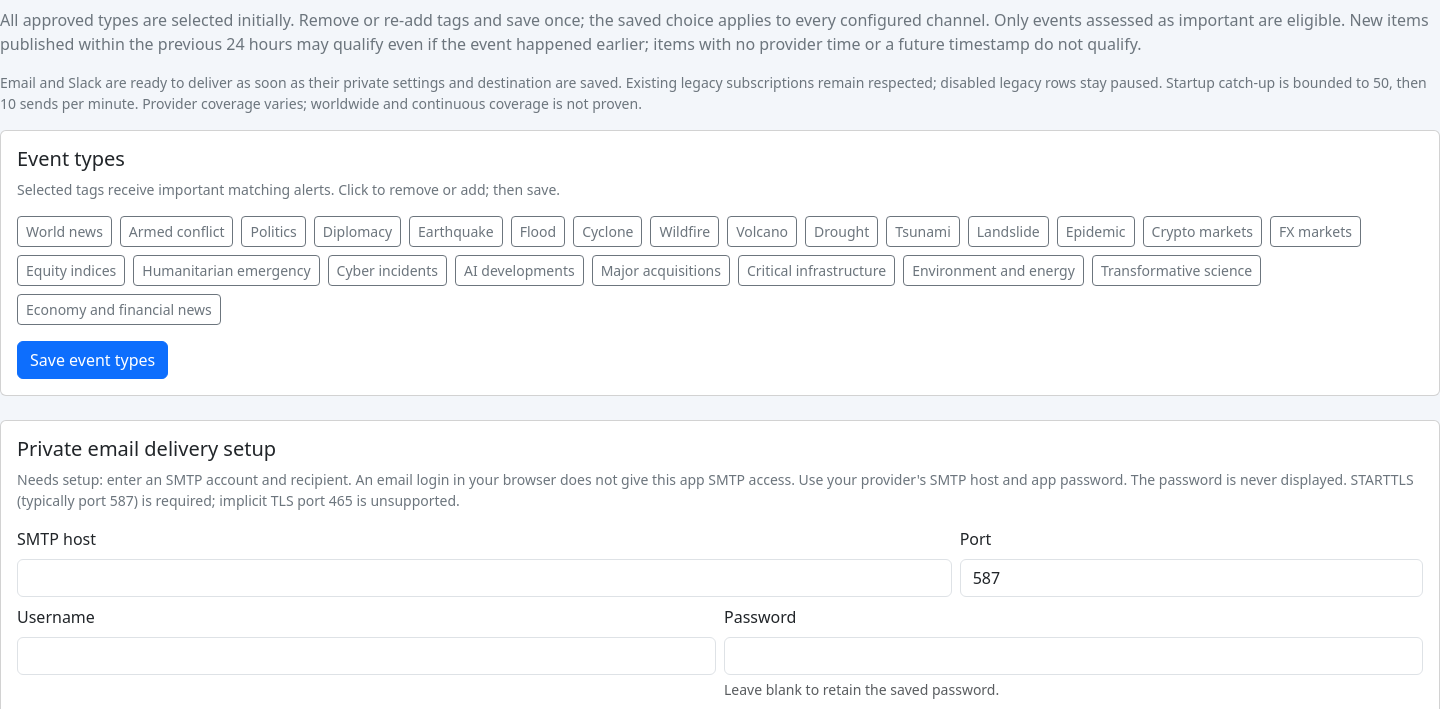
Test: Alert setup › saves private SMTP configuration with CSRF and explicitly tests a chosen recipient
This screenshot has width=1440, height=709.
Type "mail.example.org" into the field labelled "SMTP host" at (484, 578), box x1=17 y1=559 x2=952 y2=597
Type "sender" into the field labelled "Username" at (366, 656), box x1=17 y1=637 x2=716 y2=675
Type "private-secret" into the password field named "smtpPassword" at (1074, 656), box x1=724 y1=637 x2=1423 y2=675
(page scrolled)
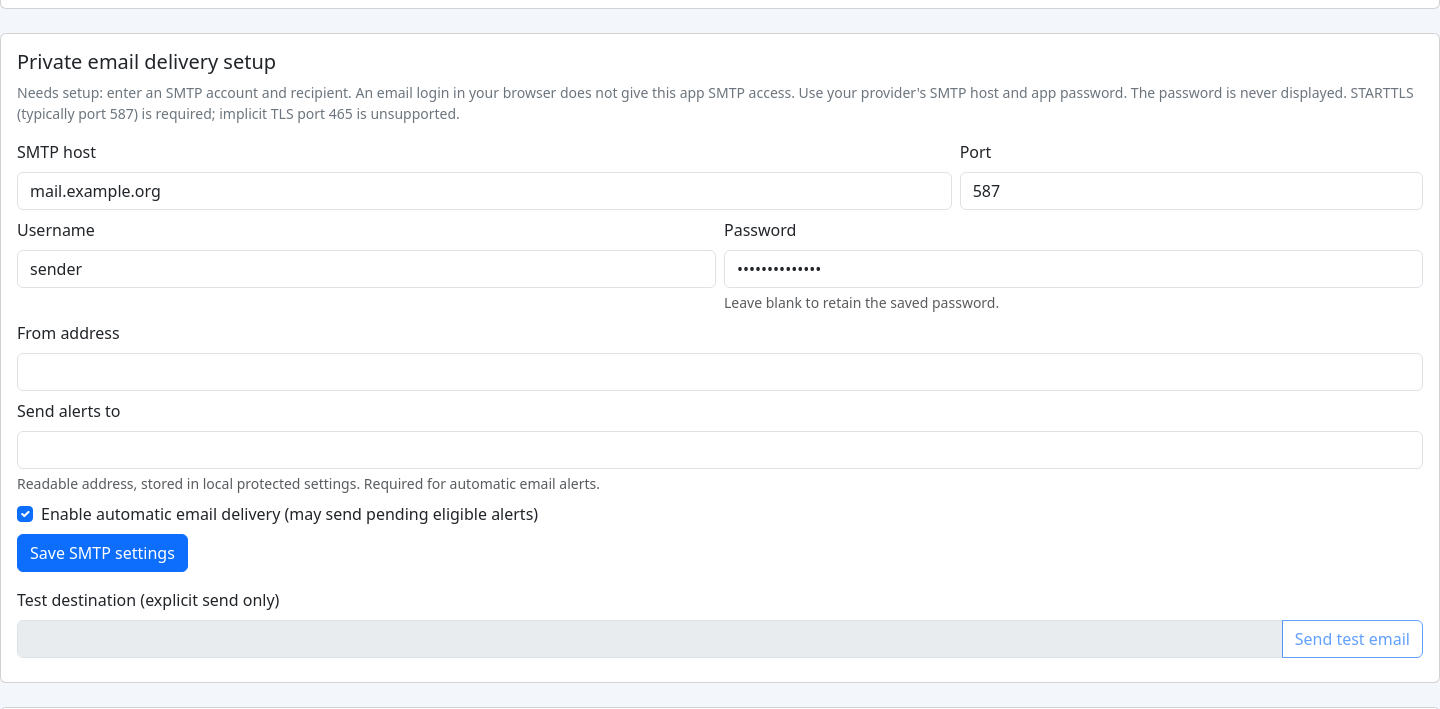
Type "alerts@example.org" into the field labelled "From address" at (720, 372), box x1=17 y1=353 x2=1423 y2=391
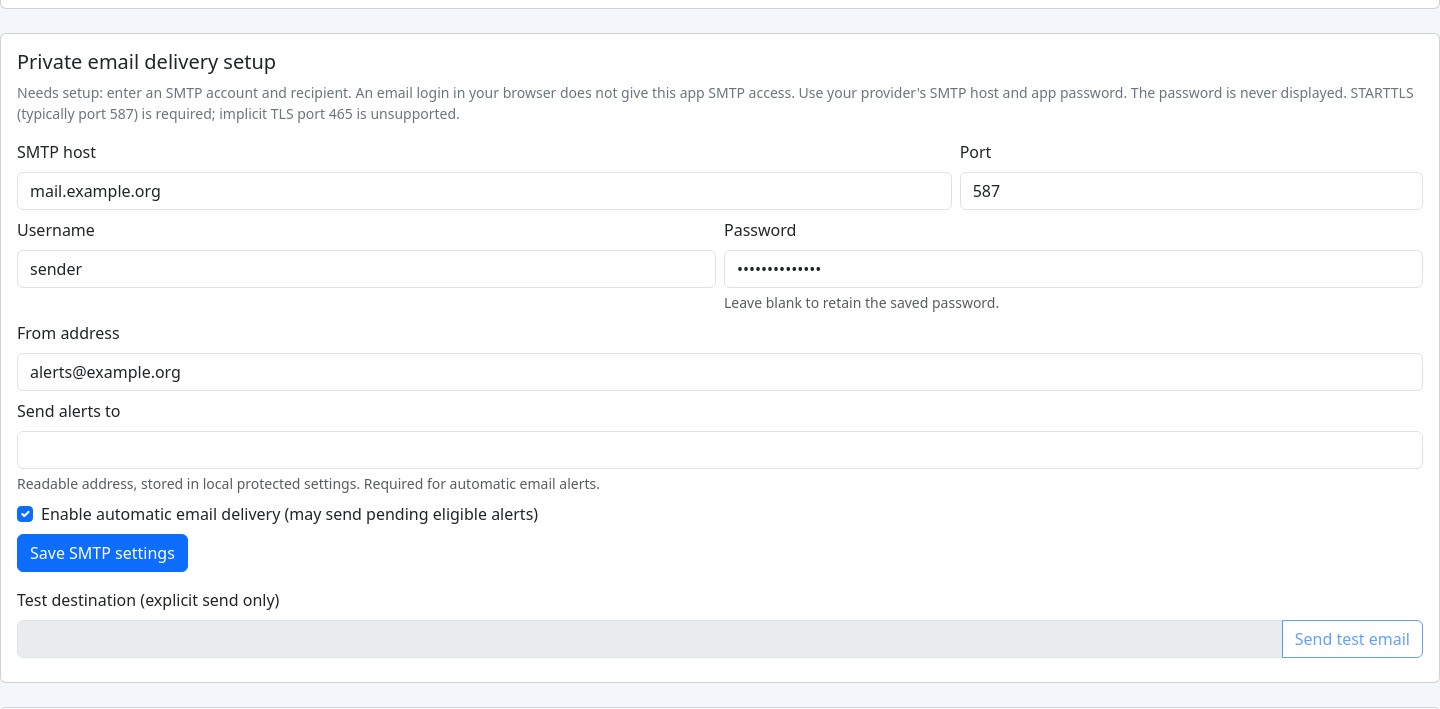
Type "receiver@example.org" into the field labelled "Send alerts to" at (720, 450), box x1=17 y1=431 x2=1423 y2=469
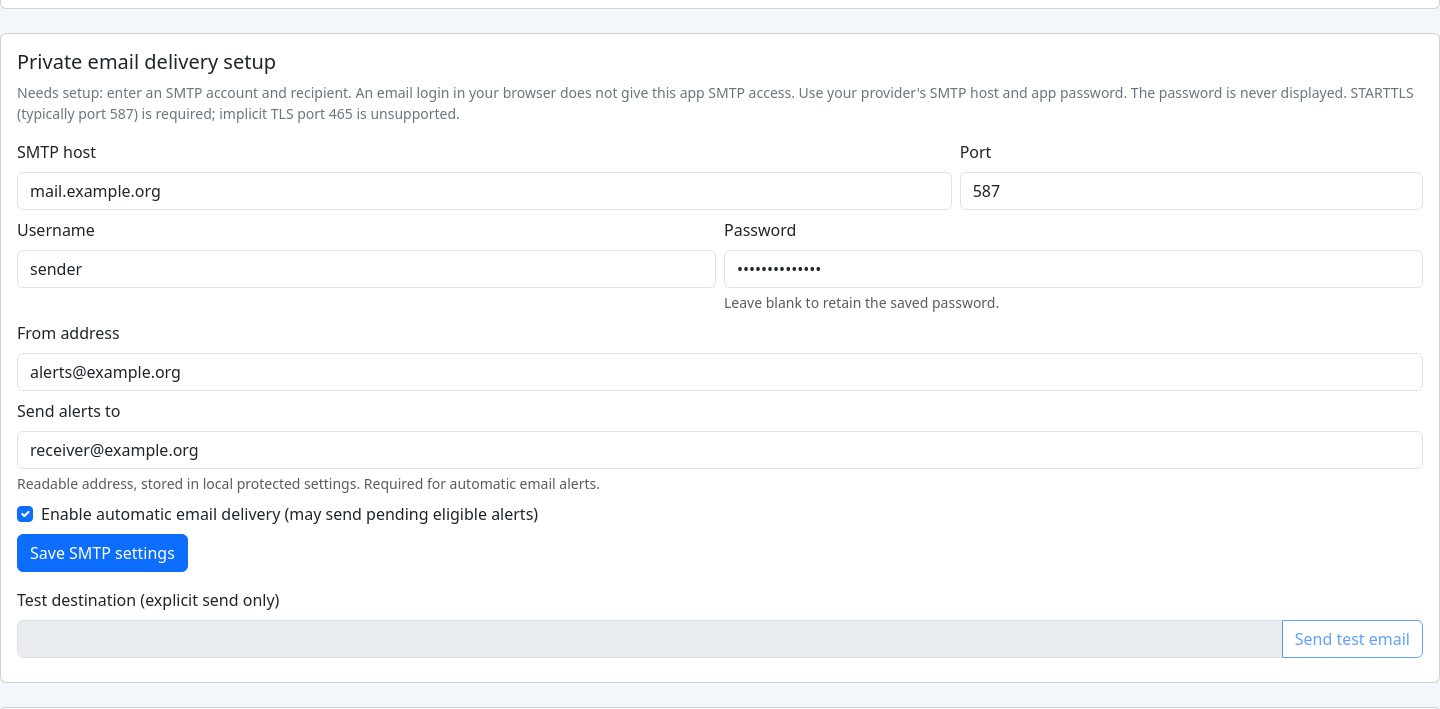
Click the submit button at (102, 553), box x1=17 y1=534 x2=188 y2=572
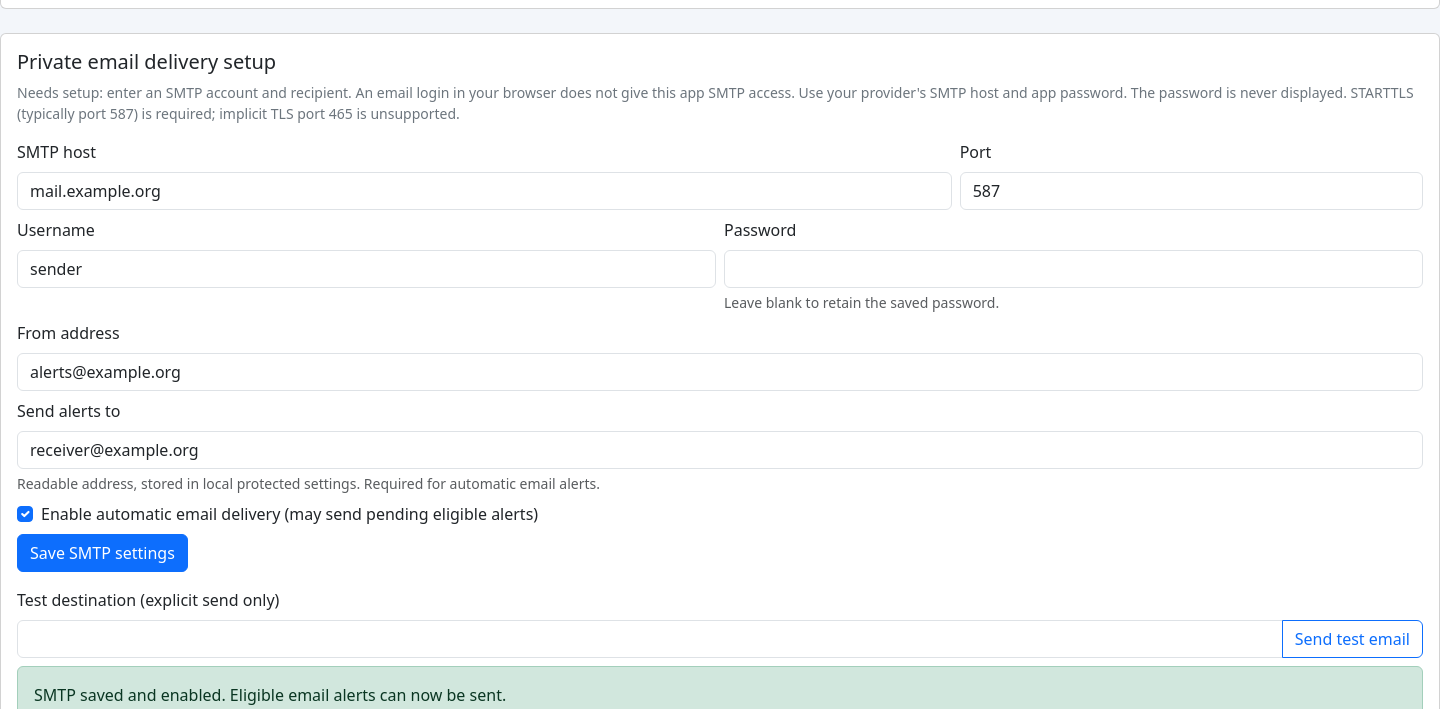
Check: the password field named "smtpPassword" is empty, box x1=724 y1=250 x2=1423 y2=288
Type "receiver@example.org" into the field labelled "Test destination (explicit send only)" at (650, 639), box x1=17 y1=620 x2=1283 y2=658
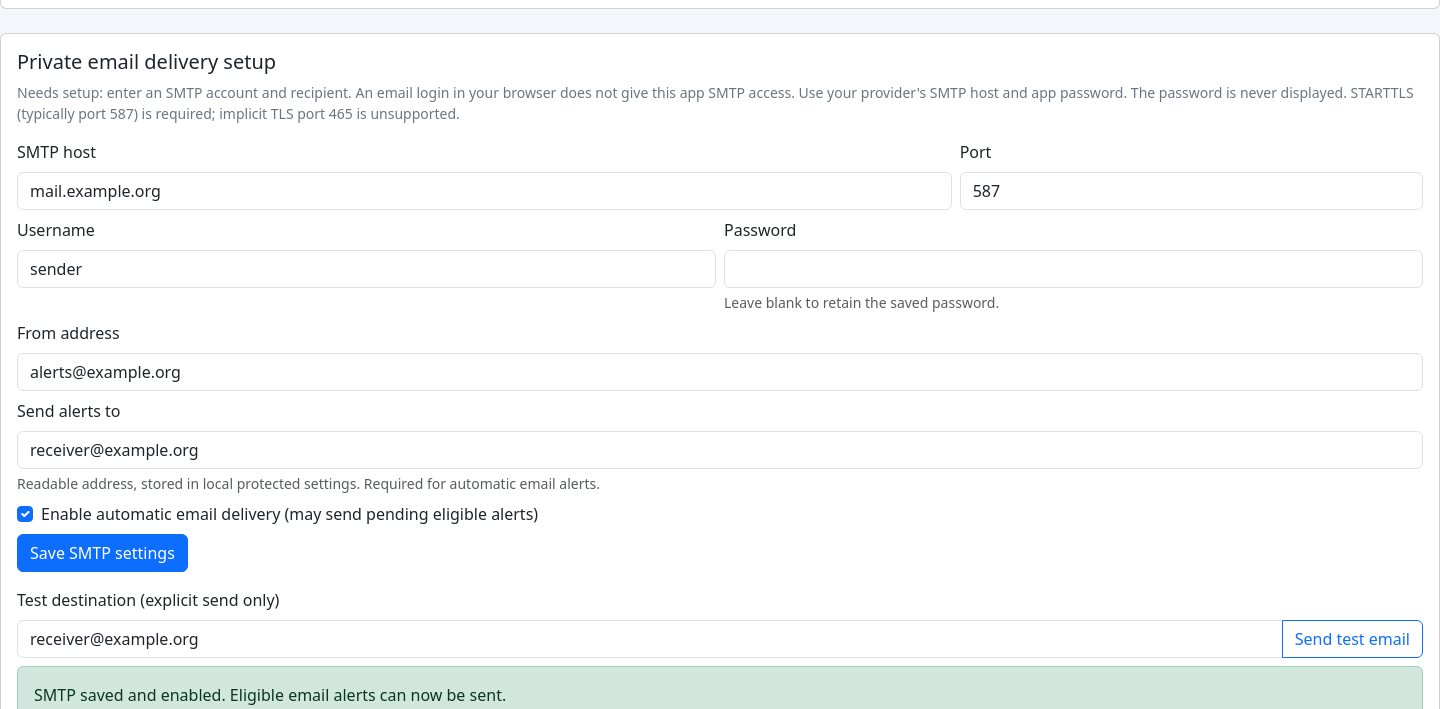
Click the button "Send test email" at (1352, 639), box x1=1282 y1=620 x2=1423 y2=658
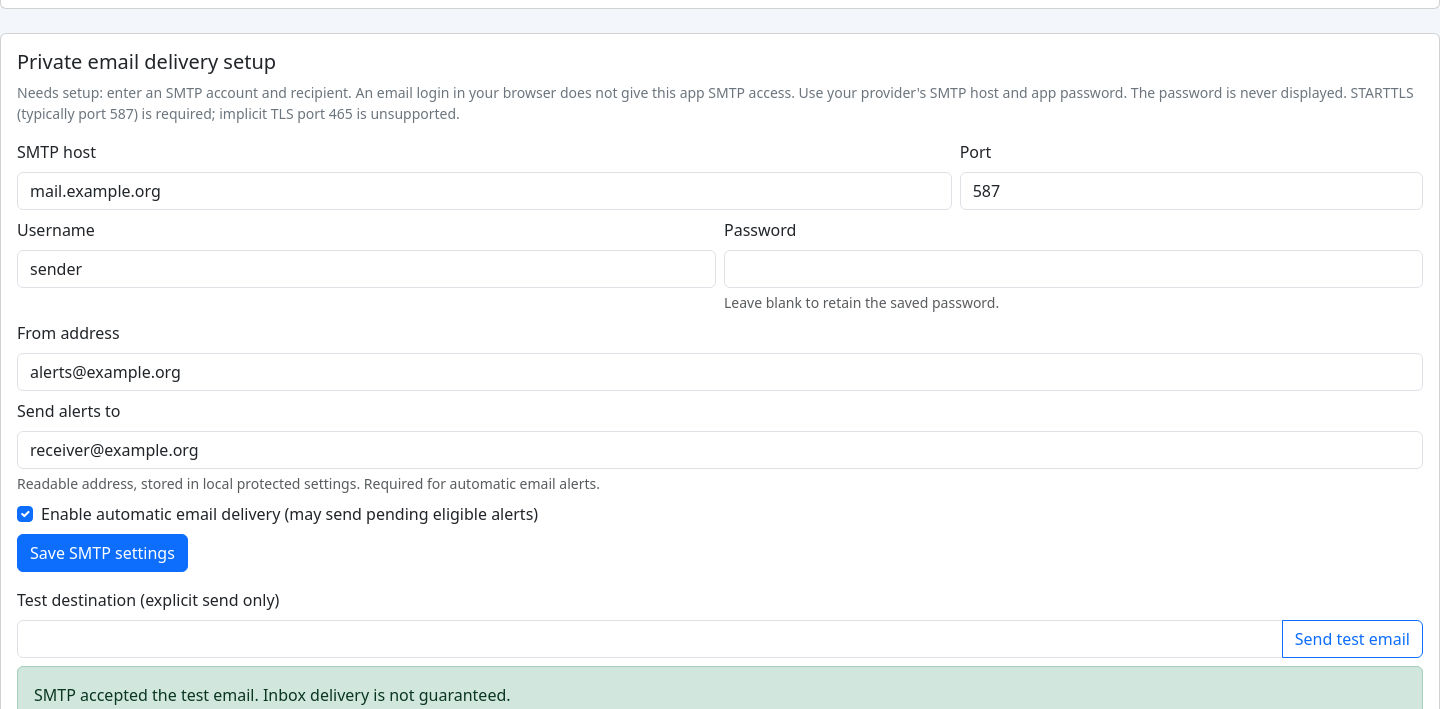
Check: the text "SMTP accepted" is shown, box x1=34 y1=684 x2=510 y2=706
